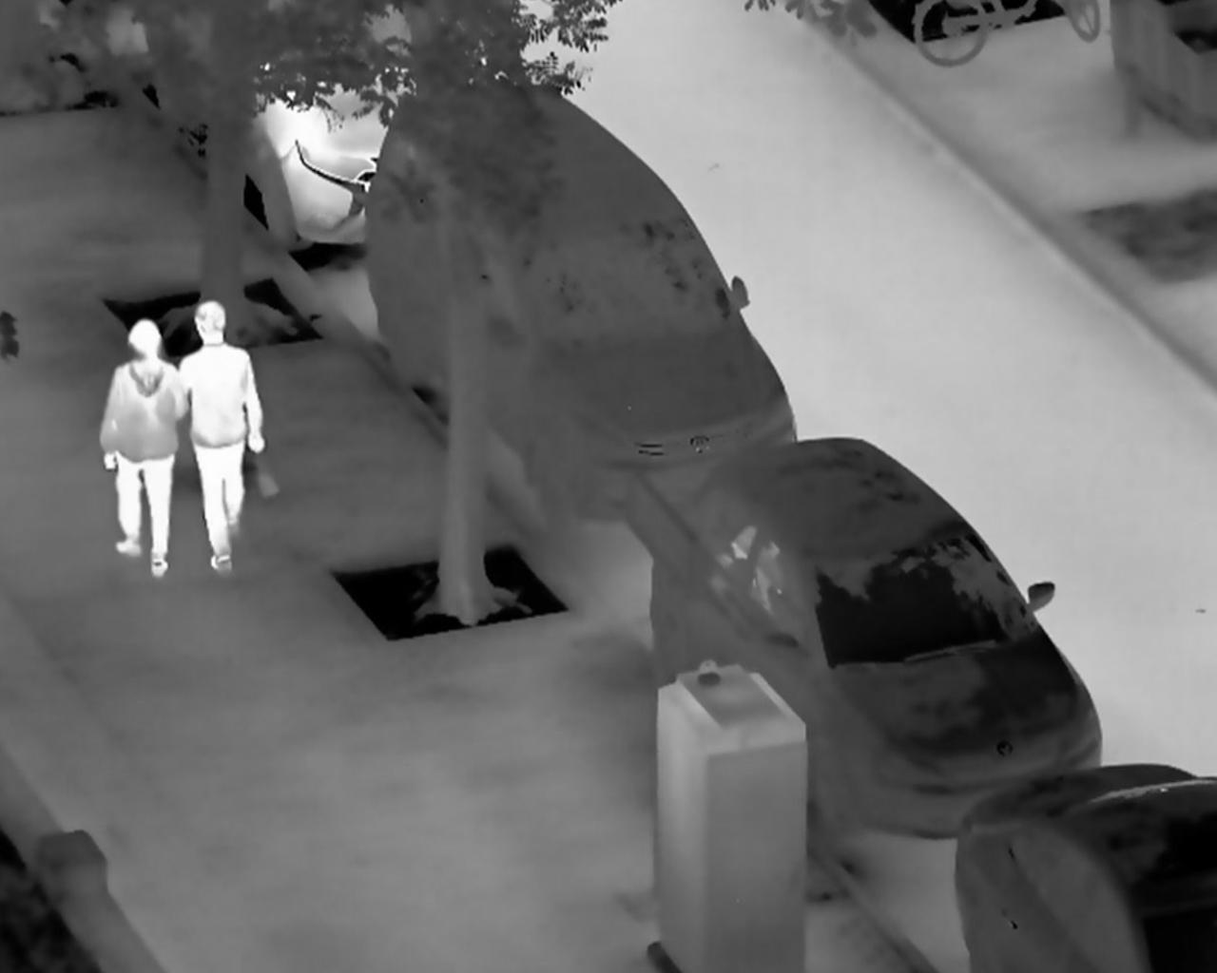person: (177, 296, 263, 577), (97, 318, 186, 578)
